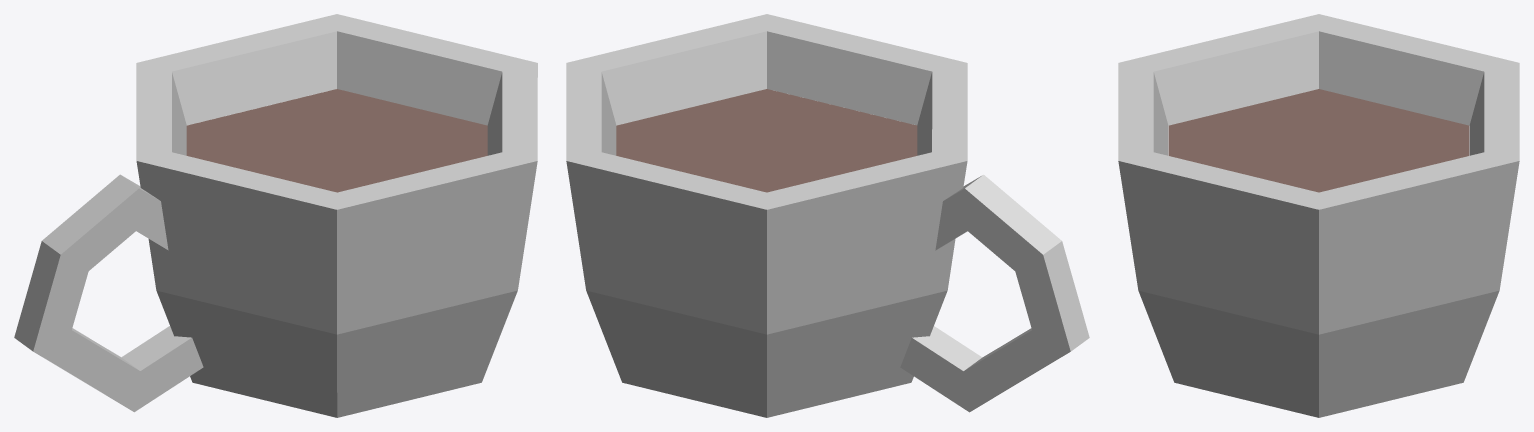
File: cup-tea.glb
The picture shows the model from 3 angles, left to right: view 1: azimuth 30°, elevation 25°; view 2: azimuth 150°, elevation 25°; view 3: azimuth 270°, elevation 25°; orthographic projection.
Visible parts, largest first — view 1: cupTea; view 2: cupTea; view 3: cupTea.
Part boxes in pixels (left/top/right/bottom): cupTea: left=14, top=14, right=537, bottom=417; cupTea: left=566, top=14, right=1089, bottom=417; cupTea: left=1118, top=14, right=1519, bottom=417.
Size of the model in its own units: 0.3199 by 0.1438 by 0.2163.
